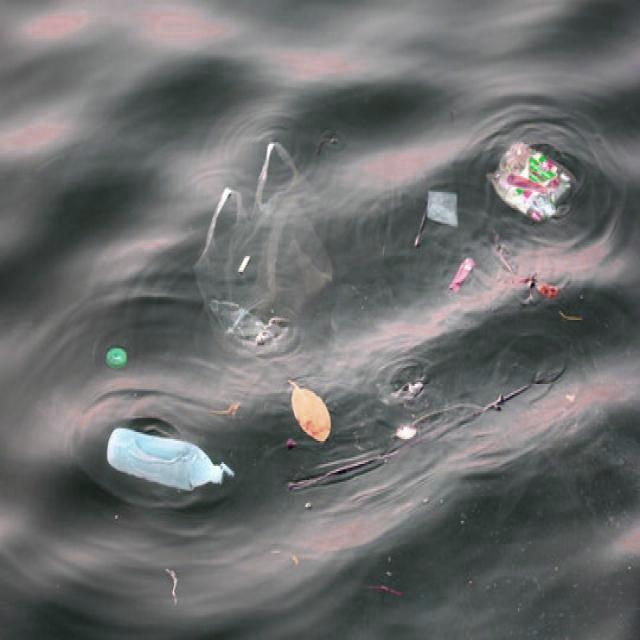Plastic: (108, 426, 235, 492)
Trash: (196, 136, 338, 358), (483, 138, 575, 224), (420, 183, 463, 232), (448, 251, 479, 289)
